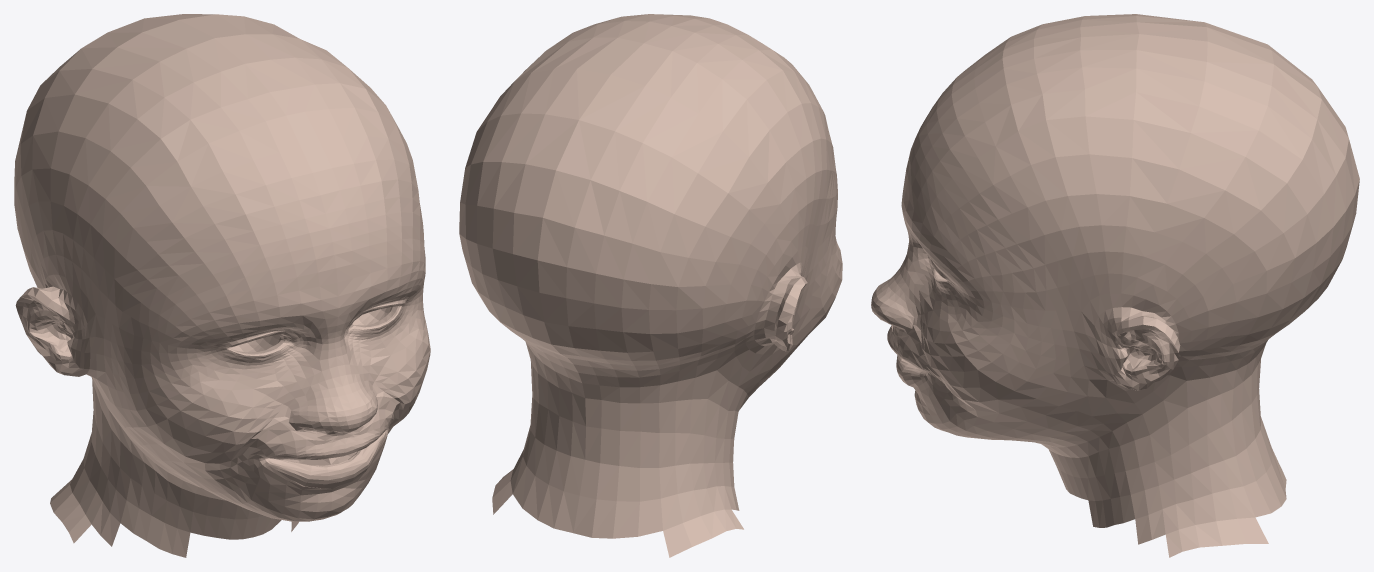
File: karma_face_MH_smile_W.glb
3 views of the same model, side by side, from view 1: azimuth 30°, elevation 25°; view 2: azimuth 150°, elevation 25°; view 3: azimuth 270°, elevation 25° (orthographic). The views are drawn at different scales.
Parts seen in each view (by area): view 1: head; view 2: head; view 3: head.
Boxes of the visible parts, box(x1,y1,x2,y2) form: head: box(14, 14, 430, 557); head: box(459, 14, 842, 557); head: box(871, 14, 1359, 557).
Bounding box in the file's own units: 3.03 × 3.91 × 3.7.
